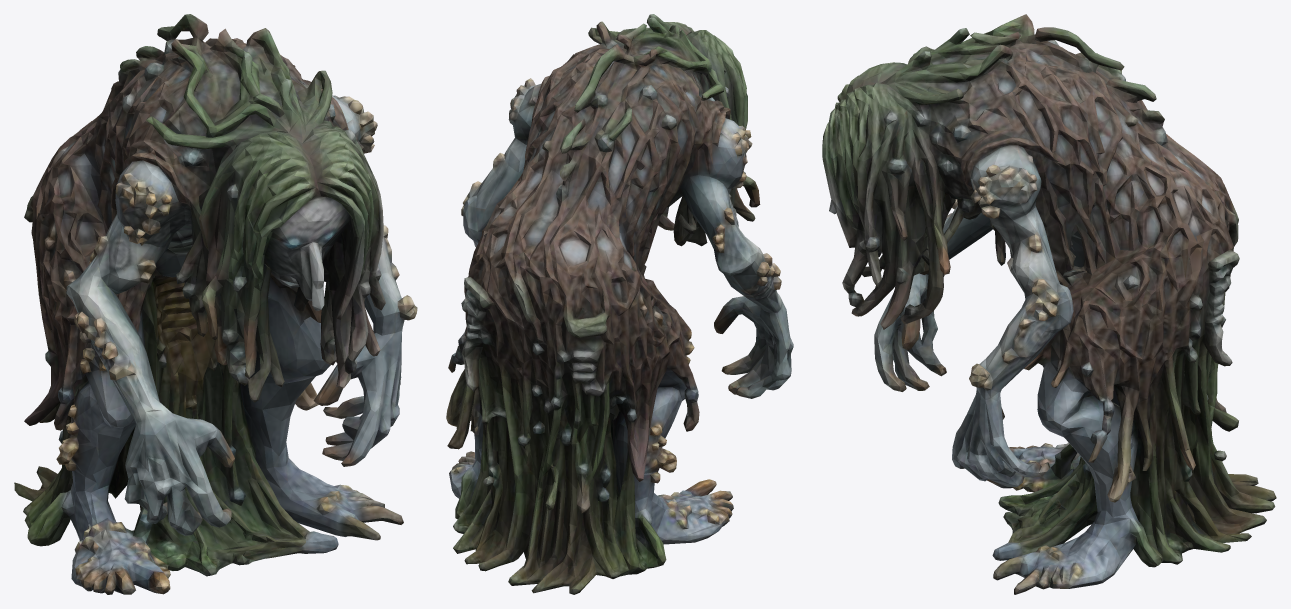
File: tideHag.glb
The picture shows the model from 3 angles, left to right: view 1: azimuth 30°, elevation 25°; view 2: azimuth 150°, elevation 25°; view 3: azimuth 270°, elevation 25°; orthographic projection. The views are drawn at different scales.
Visible parts, largest first — view 1: world; view 2: world; view 3: world.
Part boxes in pixels (x1,y1,x2,y2): world: (14,14,417,594); world: (446,14,793,594); world: (822,14,1276,594).
Size of the model in its own units: 0.6534 by 1 by 0.8384.
1 material, 1 textured.
